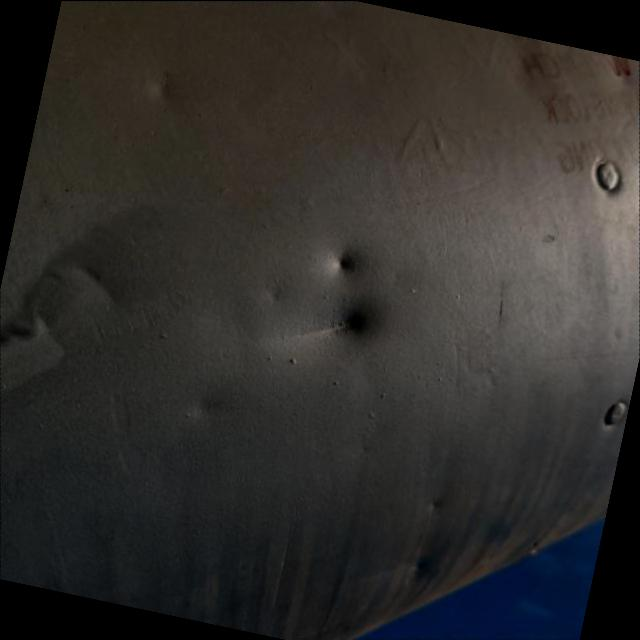dent: (0, 213, 149, 402), (292, 271, 392, 370), (392, 524, 452, 608), (125, 50, 190, 120), (316, 232, 372, 286)
